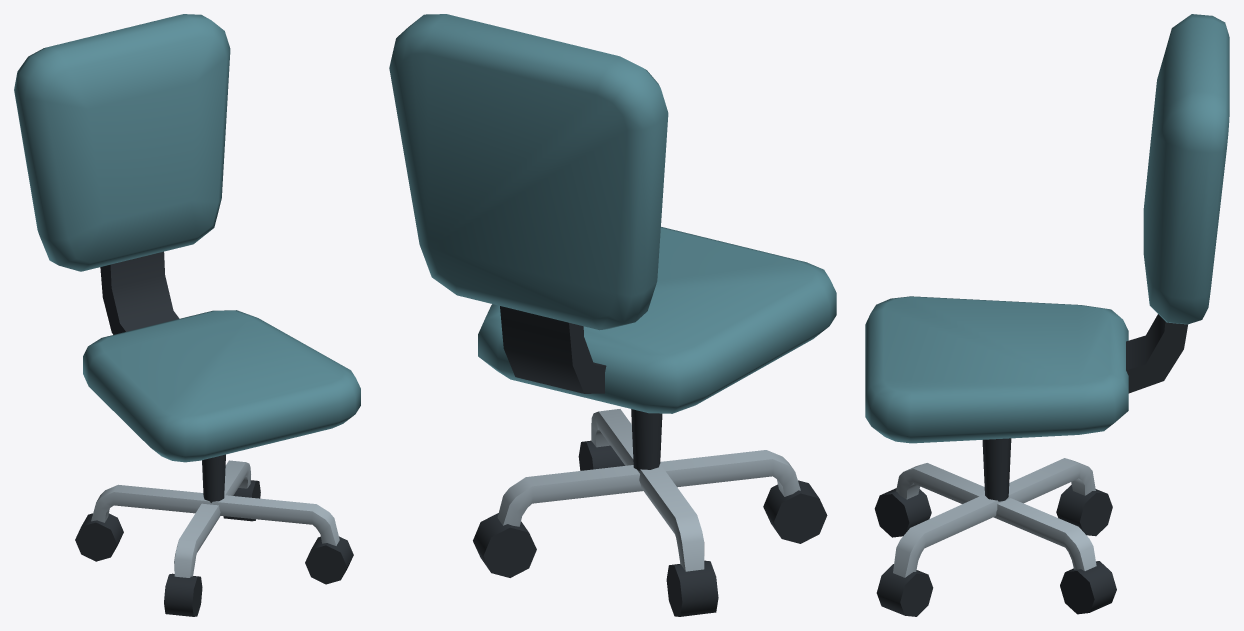
Rendered from Chair.fbx.
3 renders of one model, left to right at view 1: azimuth 30°, elevation 25°; view 2: azimuth 150°, elevation 25°; view 3: azimuth 270°, elevation 25°, orthographic. The views are drawn at different scales.
Visible parts, largest first — view 1: Chair; view 2: Chair; view 3: Chair.
Part boxes in pixels (<box>): Chair: <box>14,14,360,616</box>; Chair: <box>389,14,836,616</box>; Chair: <box>865,14,1229,616</box>.
Bounding box in the file's own units: 66.48 × 144 × 92.03.
